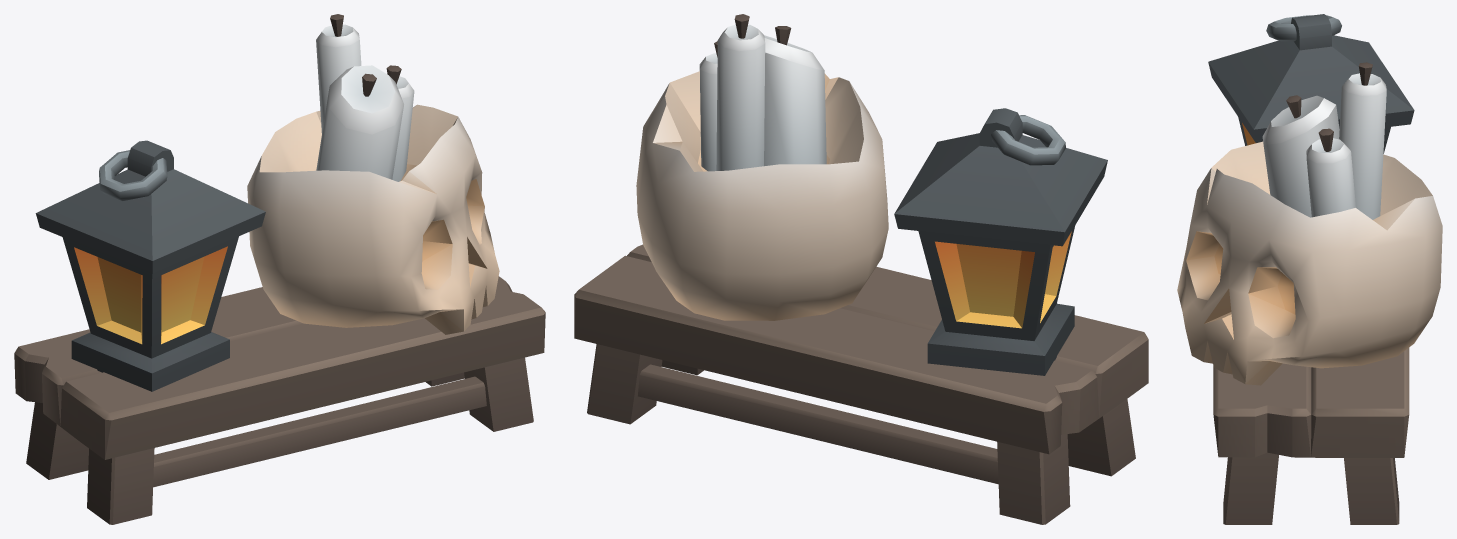
Rendered from bench_decorated.obj.
The picture shows the model from 3 angles, left to right: view 1: azimuth 30°, elevation 25°; view 2: azimuth 150°, elevation 25°; view 3: azimuth 270°, elevation 25°; orthographic projection. The views are drawn at different scales.
Parts seen in each view (by area): view 1: bench_decorated_Cube.638; view 2: bench_decorated_Cube.638; view 3: bench_decorated_Cube.638.
Boxes of the visible parts, bbox=[...] form: bench_decorated_Cube.638: bbox=[14, 14, 545, 524]; bench_decorated_Cube.638: bbox=[574, 14, 1148, 524]; bench_decorated_Cube.638: bbox=[1177, 14, 1442, 524].
Size of the model in its own units: 2 by 1.68 by 1.02.
Materials: 1 (1 with a texture image).
